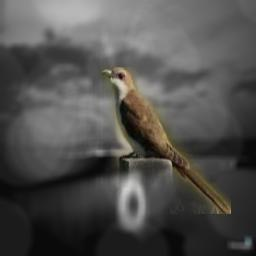Cuckoo: (101, 67, 231, 214)
